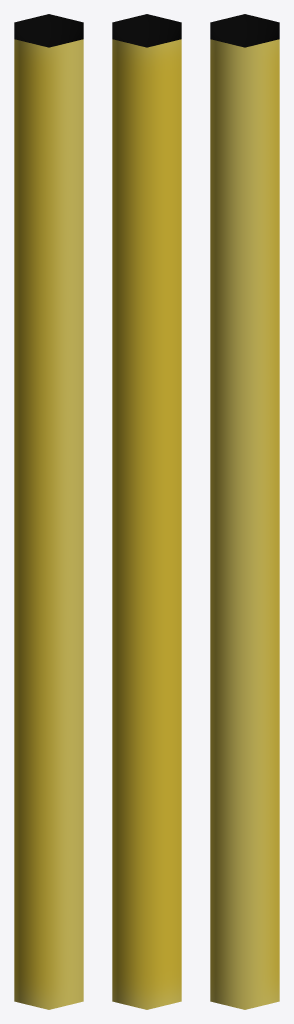
The model's file is fff_drink_slush_straw_yellow.FBX.
3 views of the same model, side by side, from view 1: azimuth 30°, elevation 25°; view 2: azimuth 150°, elevation 25°; view 3: azimuth 330°, elevation 25° (orthographic).
Visible parts, largest first — view 1: fff_drink_slush_straw_yellow; view 2: fff_drink_slush_straw_yellow; view 3: fff_drink_slush_straw_yellow.
Boxes of the visible parts, x1,y1,x2,y2 form: fff_drink_slush_straw_yellow: (14,14,83,1009); fff_drink_slush_straw_yellow: (112,14,181,1009); fff_drink_slush_straw_yellow: (210,14,279,1009).
Size of the model in its own units: 0.5954 by 7.93 by 0.5156.
